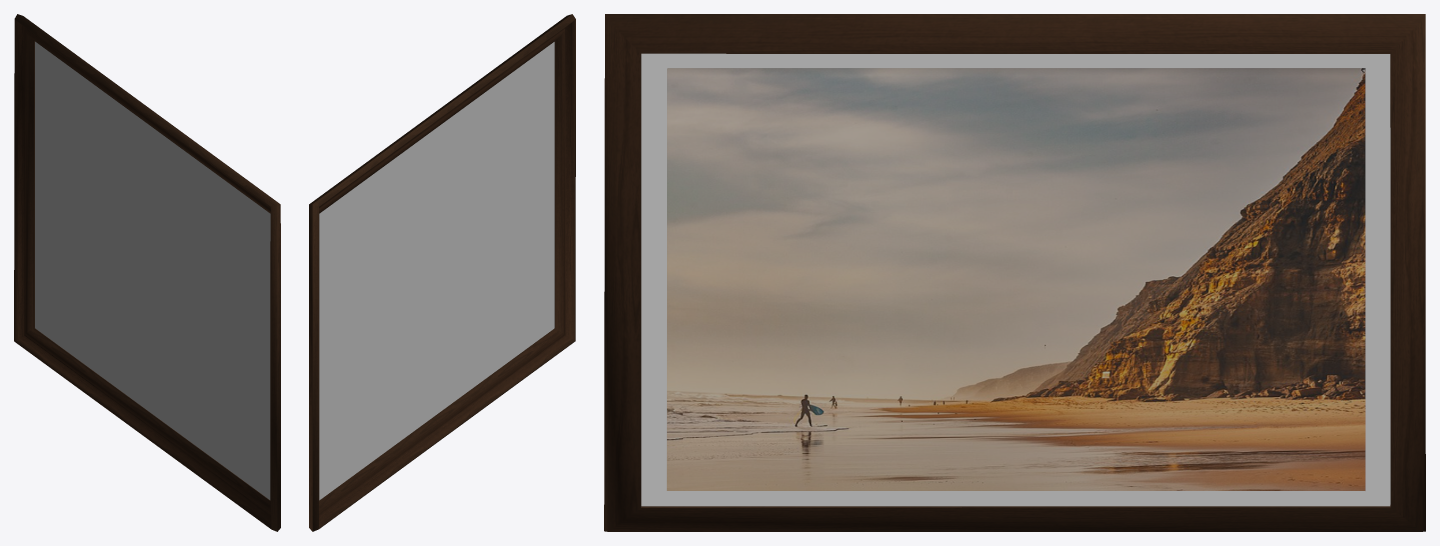
File: SM_Photo_A5.fbx
3 renders of one model, left to right at view 1: azimuth 30°, elevation 25°; view 2: azimuth 150°, elevation 25°; view 3: azimuth 270°, elevation 25°, orthographic. The views are drawn at different scales.
Visible parts, largest first — view 1: SM_Photo_A5; view 2: SM_Photo_A5; view 3: SM_Photo_A5.
Boxes of the visible parts, x1,y1,x2,y2 form: SM_Photo_A5: (14,14,280,531); SM_Photo_A5: (309,14,575,531); SM_Photo_A5: (604,14,1425,531).
Size of the model in its own units: 2.49 by 72.87 by 50.64.
3 materials, 2 textured.
